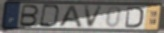0: (105, 5, 124, 29)
A: (57, 4, 84, 29)
B: (18, 4, 40, 28)
D: (39, 4, 62, 29), (125, 6, 145, 29)
V: (83, 4, 105, 29)
